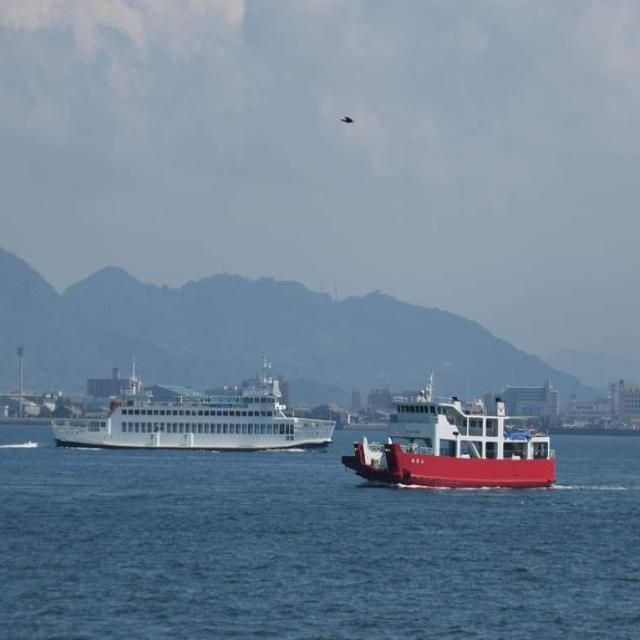houseboat: (344, 392, 568, 502)
passenger ship: (59, 356, 345, 464)
